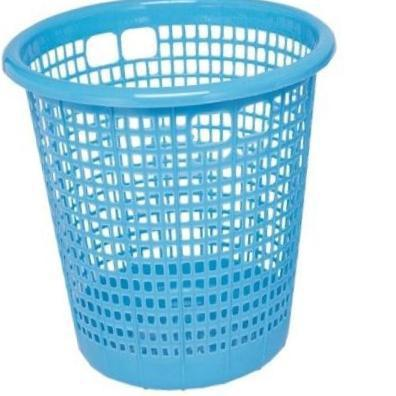Bote de Basura: (0, 2, 333, 389)
